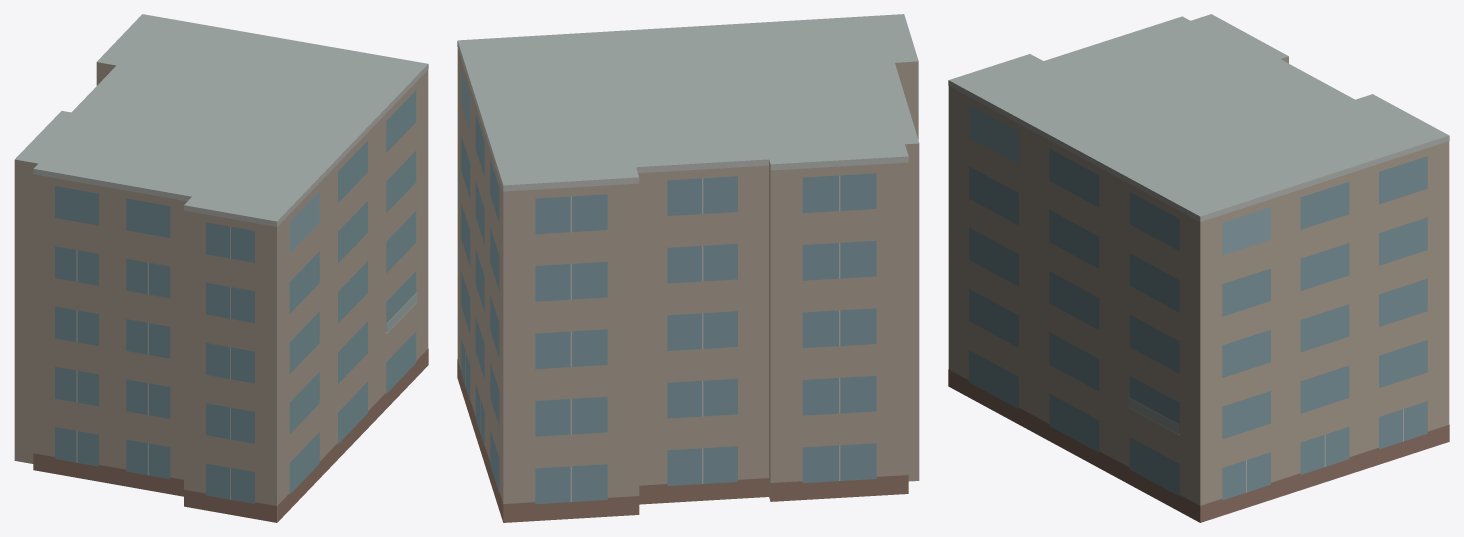
The model's file is survey-upis-32927953.glb.
3 views of the same model, side by side, from view 1: azimuth 30°, elevation 25°; view 2: azimuth 150°, elevation 25°; view 3: azimuth 270°, elevation 25° (orthographic). The views are drawn at different scales.
Parts seen in each view (by area): view 1: survey-upis-32927953.tmp; view 2: survey-upis-32927953.tmp; view 3: survey-upis-32927953.tmp.
Part boxes in pixels (<box>): survey-upis-32927953.tmp: <box>14,14,428,522</box>; survey-upis-32927953.tmp: <box>457,14,919,522</box>; survey-upis-32927953.tmp: <box>948,14,1449,522</box>.
Bounding box in the file's own units: 19.16 × 13.5 × 20.01.
